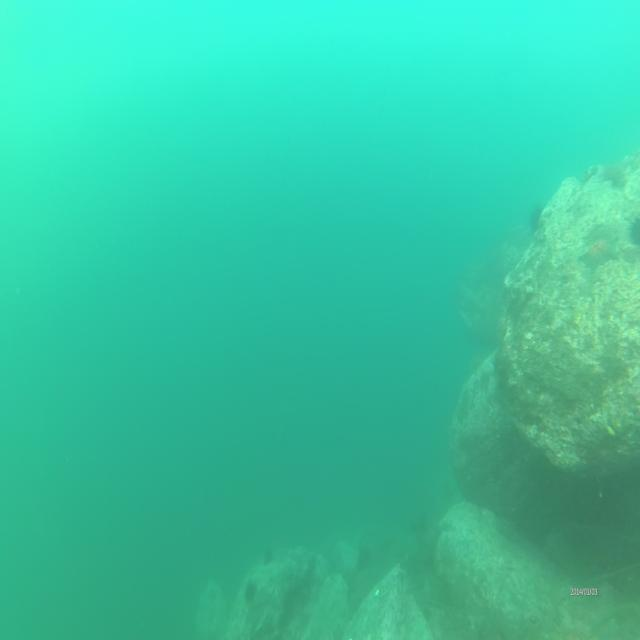echinus: (604, 157, 626, 187), (243, 580, 259, 602), (530, 205, 543, 228)
starfish: (580, 232, 620, 271)
